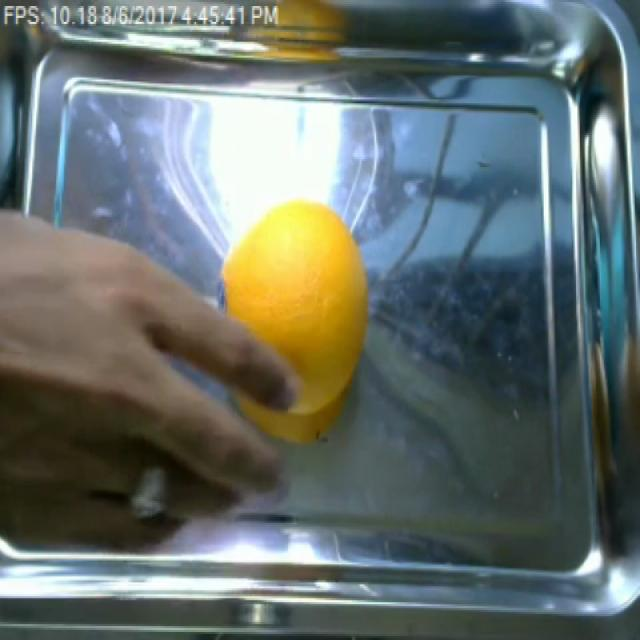Fruit: (213, 191, 375, 447), (267, 0, 353, 34)
